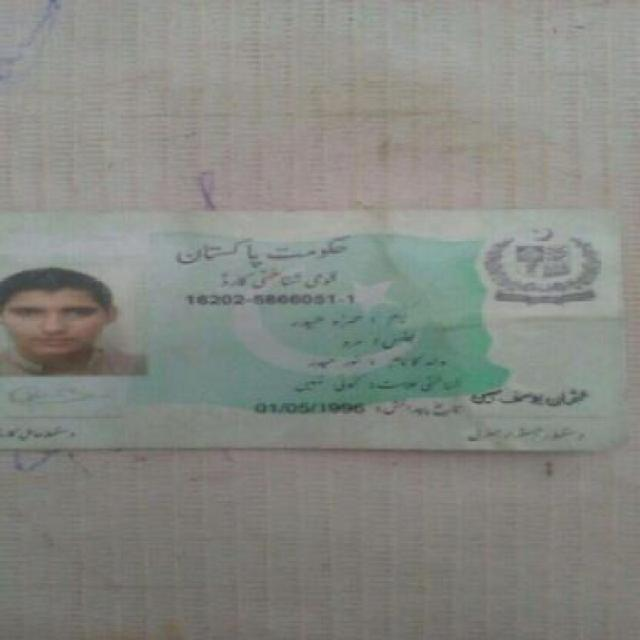Front: (8, 214, 630, 454)
